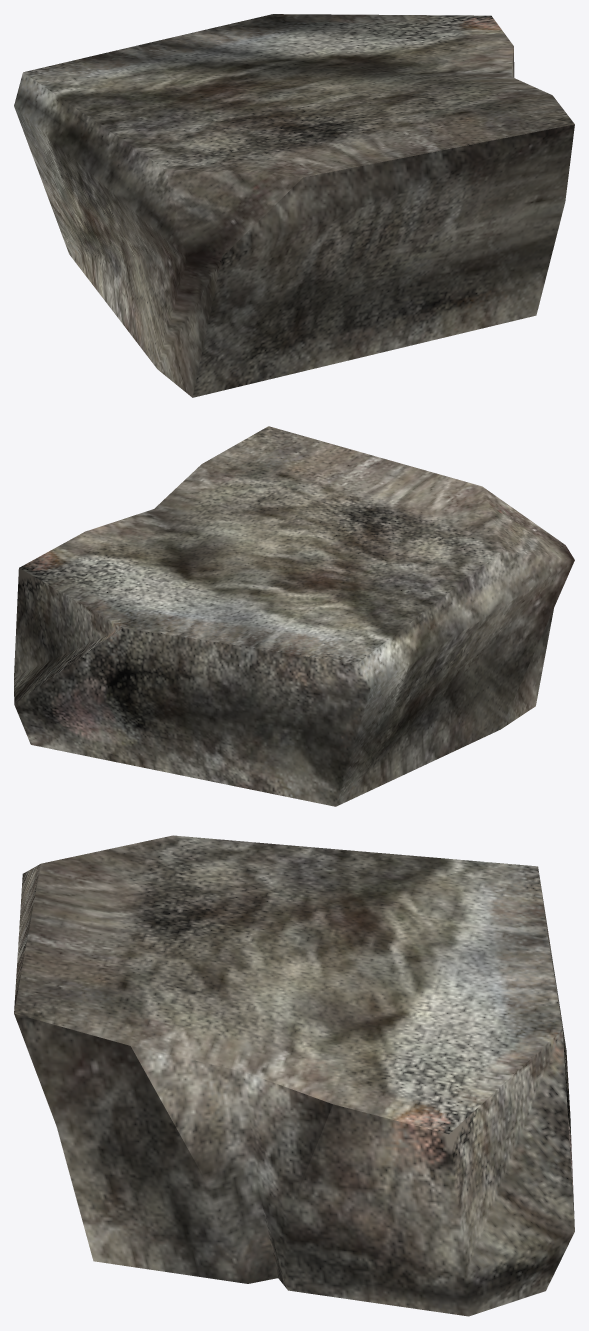
Rendered from SM_Sandstone_Rock_A_04.fbx.
The picture shows the model from 3 angles, top to bottom: view 1: azimuth 30°, elevation 25°; view 2: azimuth 150°, elevation 25°; view 3: azimuth 270°, elevation 25°; orthographic projection. The views are drawn at different scales.
Visible parts, largest first — view 1: SM_Sandstone_Rock_A_04; view 2: SM_Sandstone_Rock_A_04; view 3: SM_Sandstone_Rock_A_04.
Boxes of the visible parts, x1=… form: SM_Sandstone_Rock_A_04: x1=14, y1=14, x2=574, y2=397; SM_Sandstone_Rock_A_04: x1=14, y1=426, x2=574, y2=806; SM_Sandstone_Rock_A_04: x1=14, y1=835, x2=574, y2=1316.
Size of the model in its own units: 101 by 44.25 by 89.11.
